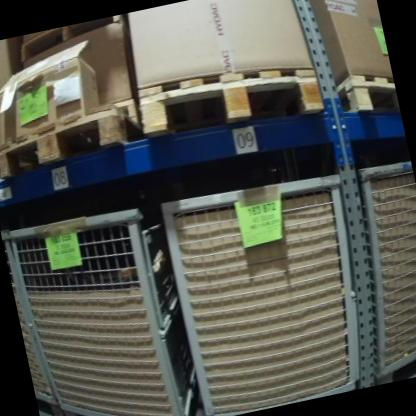pallet: (132, 50, 327, 149), (0, 96, 143, 180), (16, 14, 128, 64), (331, 66, 400, 122)
stillage: (157, 164, 381, 416), (8, 198, 198, 416), (331, 157, 416, 384), (1, 223, 62, 416)
